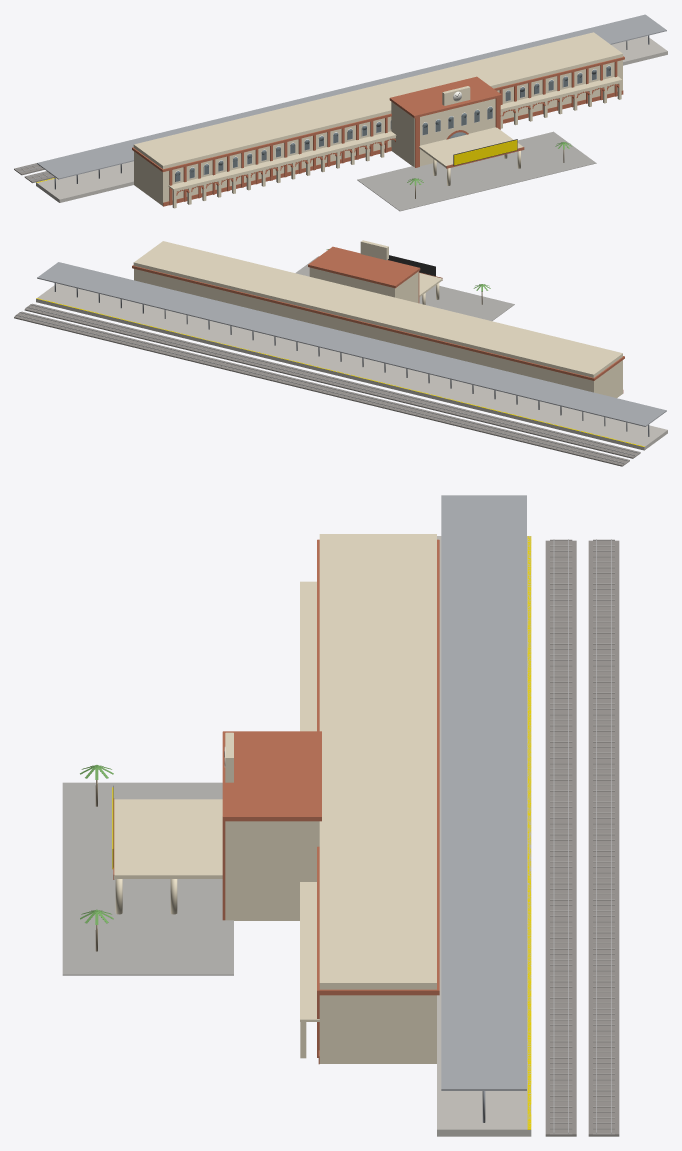
File: station_ao.glb
The picture shows the model from 3 angles, top to bottom: view 1: azimuth 30°, elevation 25°; view 2: azimuth 150°, elevation 25°; view 3: azimuth 270°, elevation 25°; orthographic projection. The views are drawn at different scales.
Parts seen in each view (by area): view 1: station; view 2: station; view 3: station.
Part boxes in pixels (left/top/right/bottom): station: left=14, top=14, right=667, bottom=211; station: left=14, top=240, right=667, bottom=466; station: left=62, top=495, right=619, bottom=1136.
Size of the model in its own units: 164 by 17.3 by 65.
